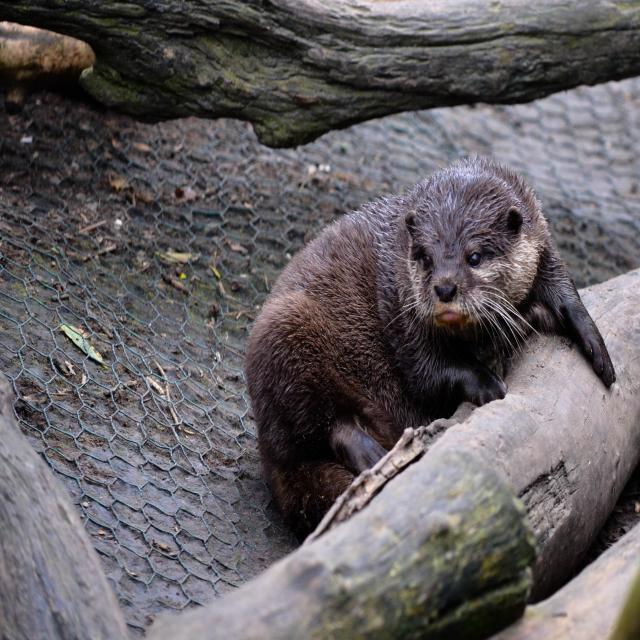otter: (251, 167, 540, 406)
